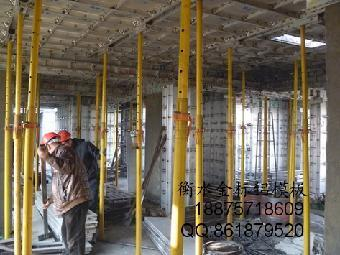helmet: (39, 129, 63, 155), (50, 129, 72, 151)
